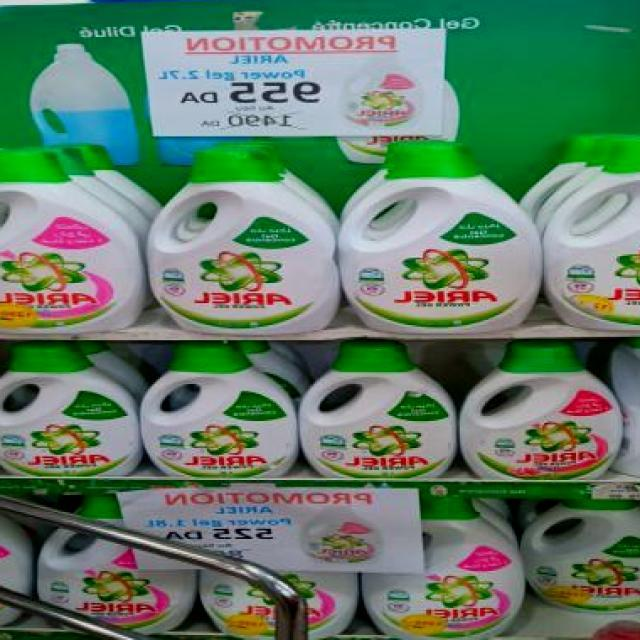Detergent: (342, 130, 539, 337), (152, 143, 341, 334), (0, 143, 152, 330), (371, 488, 528, 640), (294, 339, 459, 481), (138, 339, 300, 481), (467, 338, 621, 482), (0, 338, 145, 478), (549, 111, 640, 330), (517, 486, 640, 622)
